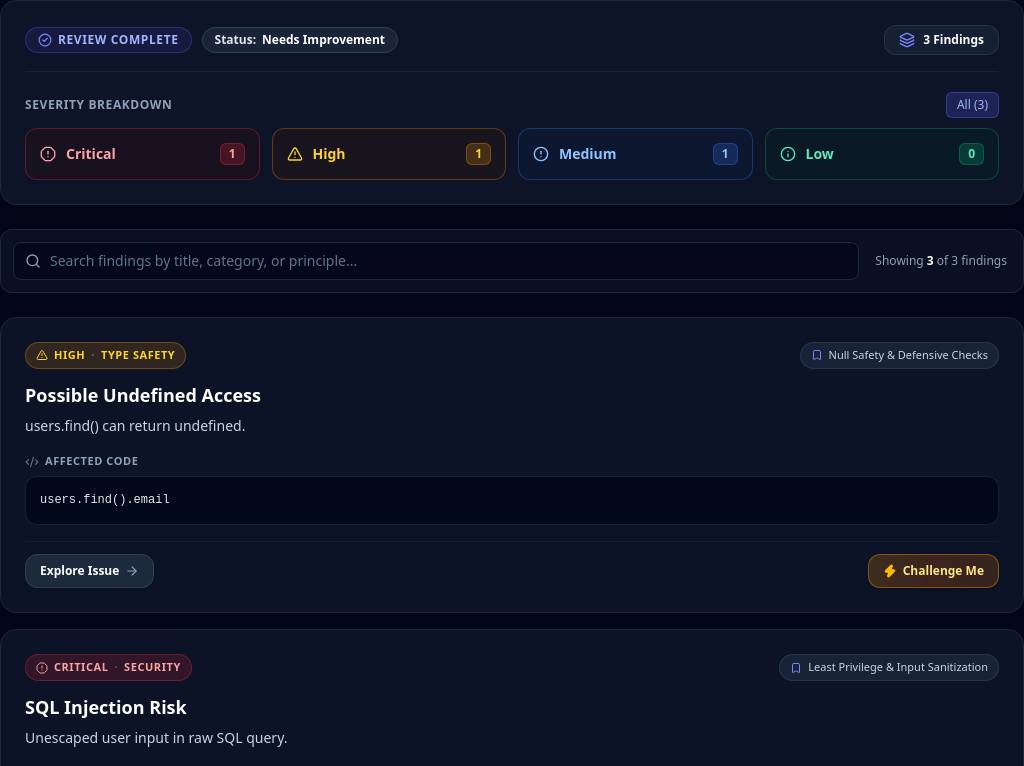
Test: FindingsList component › filters by search input text
Type "injection" into the field with placeholder "Search findings by title, category, or principle...".
click(436, 261); type("injection")  # box left=13, top=242, right=859, bottom=280
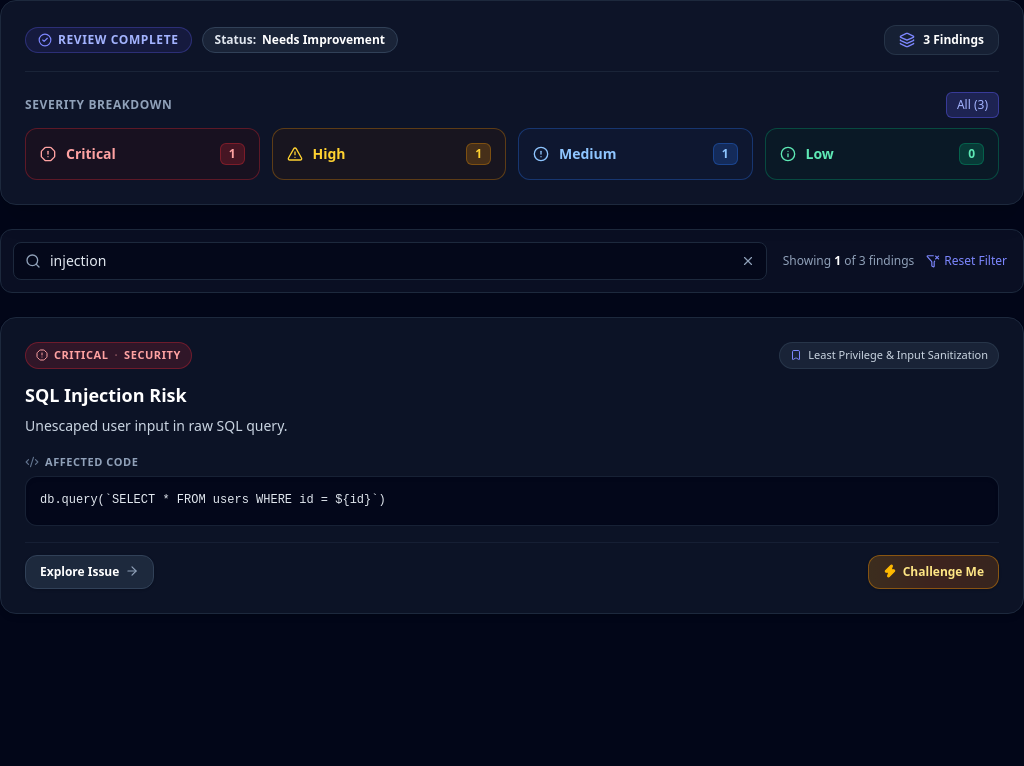
Expected: the heading "SQL Injection Risk" is shown, left=25, top=382, right=187, bottom=406
Now the heading "Possible Undefined Access" is gone
